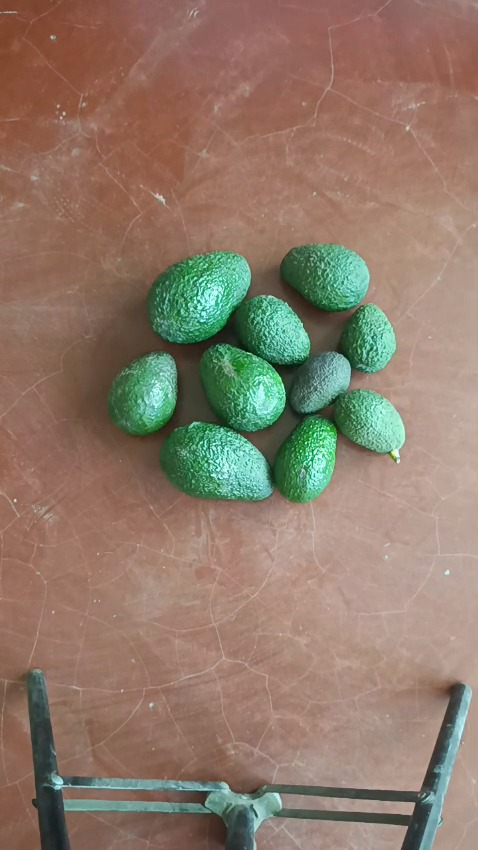Primera: (147, 251, 251, 344), (160, 422, 274, 500), (198, 342, 287, 431)
Segunda: (106, 351, 181, 436), (280, 243, 370, 311), (272, 414, 338, 501), (232, 294, 311, 366)
Tercera: (332, 388, 405, 456), (288, 351, 351, 416), (338, 304, 396, 373)
